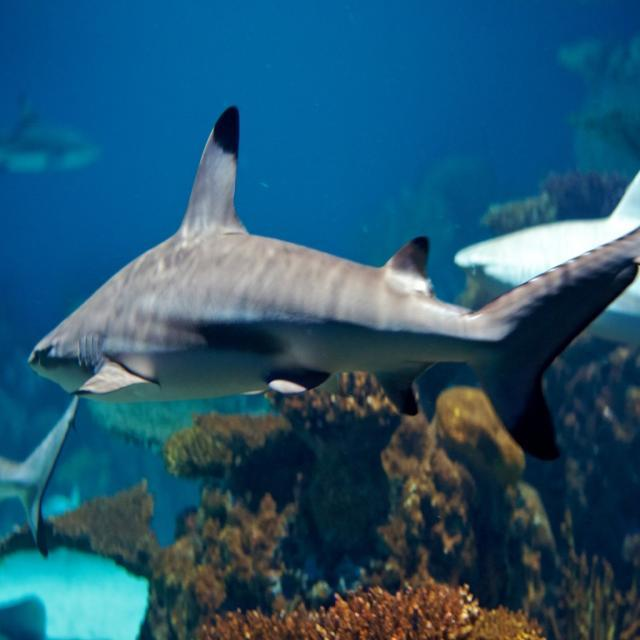Shark: (29, 105, 640, 459)
